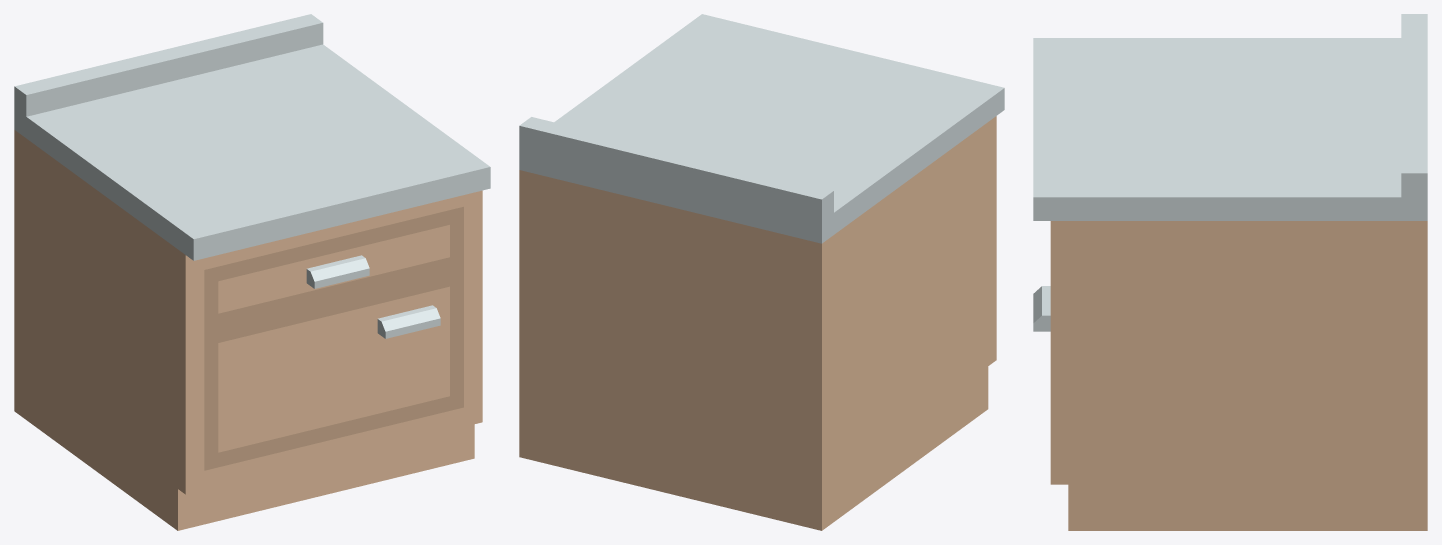
The model's file is kitchen_cabinet_drawer$col.glb.
The picture shows the model from 3 angles, left to right: view 1: azimuth 30°, elevation 25°; view 2: azimuth 150°, elevation 25°; view 3: azimuth 270°, elevation 25°; orthographic projection. The views are drawn at different scales.
Visible parts, largest first — view 1: kitchenCabinetDrawer(Clone)$col, door$col, drawer$col; view 2: kitchenCabinetDrawer(Clone)$col; view 3: kitchenCabinetDrawer(Clone)$col, door$col.
Boxes of the visible parts, x1,y1,x2,y2 form: kitchenCabinetDrawer(Clone)$col: (14, 14, 490, 530); door$col: (204, 268, 463, 470); drawer$col: (204, 206, 463, 331); kitchenCabinetDrawer(Clone)$col: (519, 14, 1004, 530); kitchenCabinetDrawer(Clone)$col: (1033, 14, 1427, 530); door$col: (1033, 286, 1050, 331).
Bounding box in the file's own units: 0.43 × 0.45 × 0.45.
